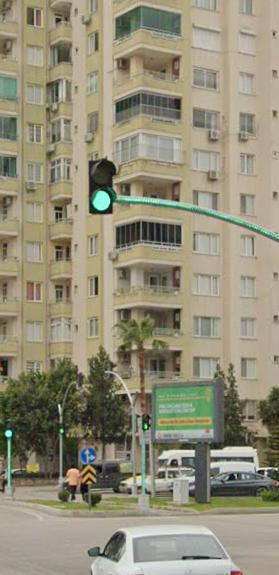greenlight: (88, 158, 117, 216)
